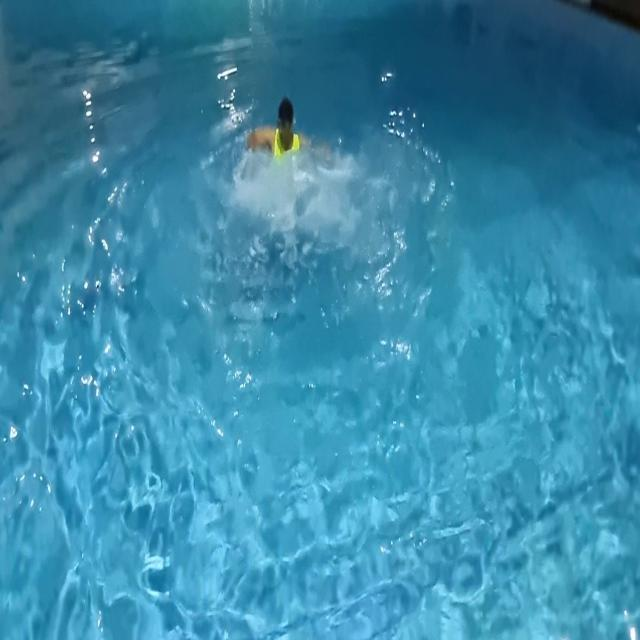Swimming: (221, 80, 371, 248)
